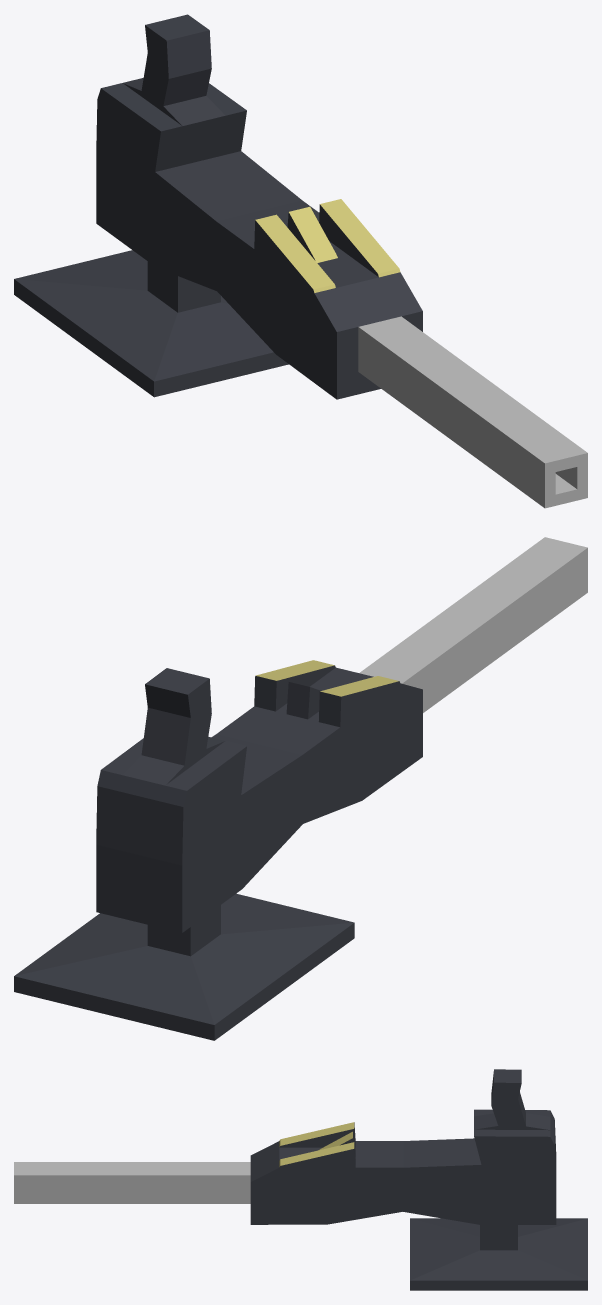
Rendered from turret.fbx.
The picture shows the model from 3 angles, top to bottom: view 1: azimuth 30°, elevation 25°; view 2: azimuth 150°, elevation 25°; view 3: azimuth 270°, elevation 25°; orthographic projection. The views are drawn at different scales.
Parts seen in each view (by area): view 1: turret; view 2: turret; view 3: turret.
Boxes of the visible parts, <box> form: turret: <box>14,14,587,508</box>; turret: <box>14,537,587,1040</box>; turret: <box>14,1069,587,1290</box>.
Size of the model in its own units: 0.933 by 1.29 by 3.64.
